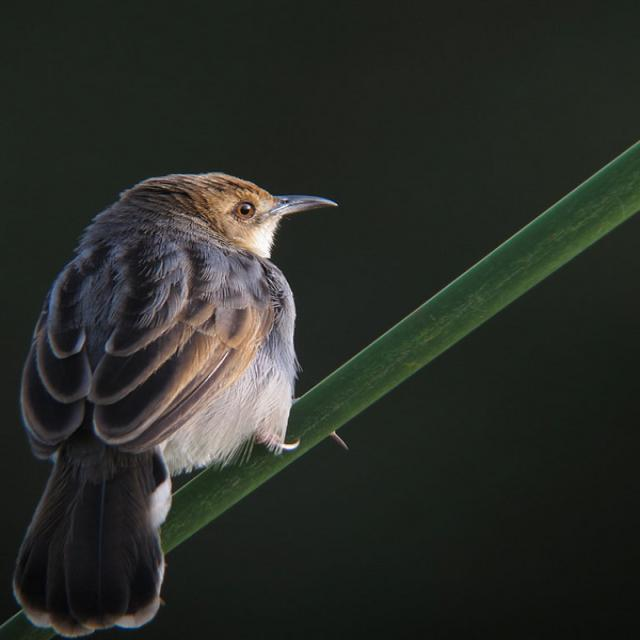bird: (12, 164, 336, 626)
